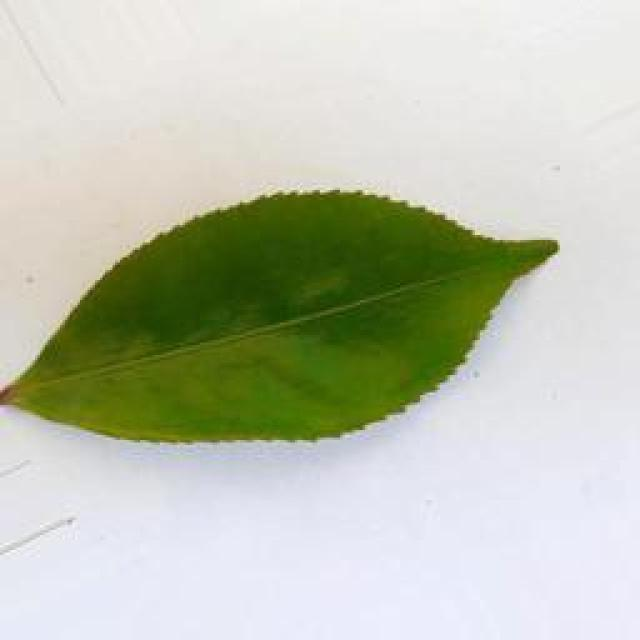Healthy: (0, 162, 558, 462)
